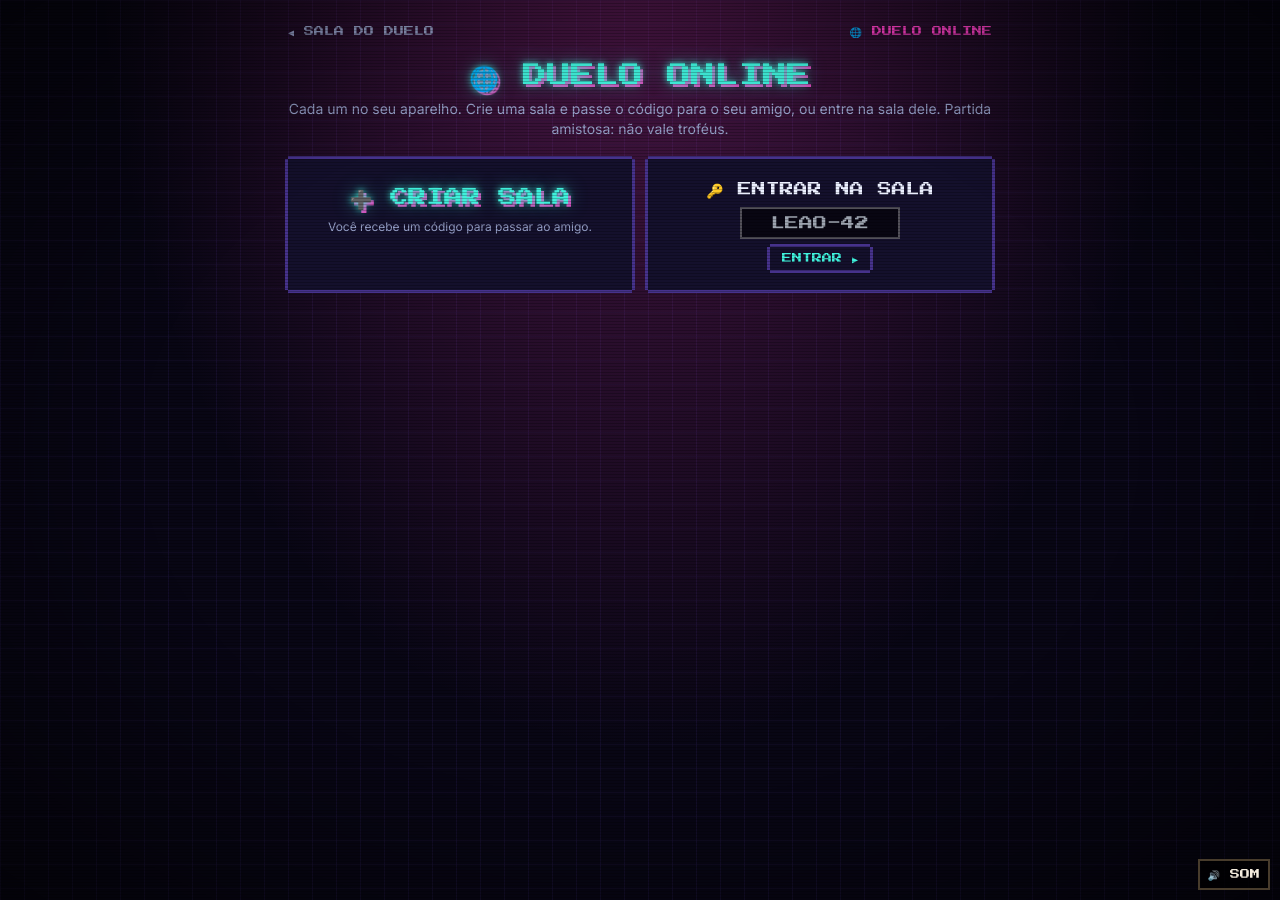
Test: duelo jogável (protótipo) › Duelo online: a sala abre com CRIAR SALA e ENTRAR NA SALA, e avisa código errado
Expected: the heading "🌐 DUELO ONLINE" is shown, left=469, top=63, right=811, bottom=87
Expected: the button "➕ CRIAR SALA Você recebe um código para passar ao amigo." is shown, left=288, top=159, right=632, bottom=290
Type "42" into the field labelled "🔑 ENTRAR NA SALA".
click(820, 223); type("42")  # box left=740, top=207, right=900, bottom=239
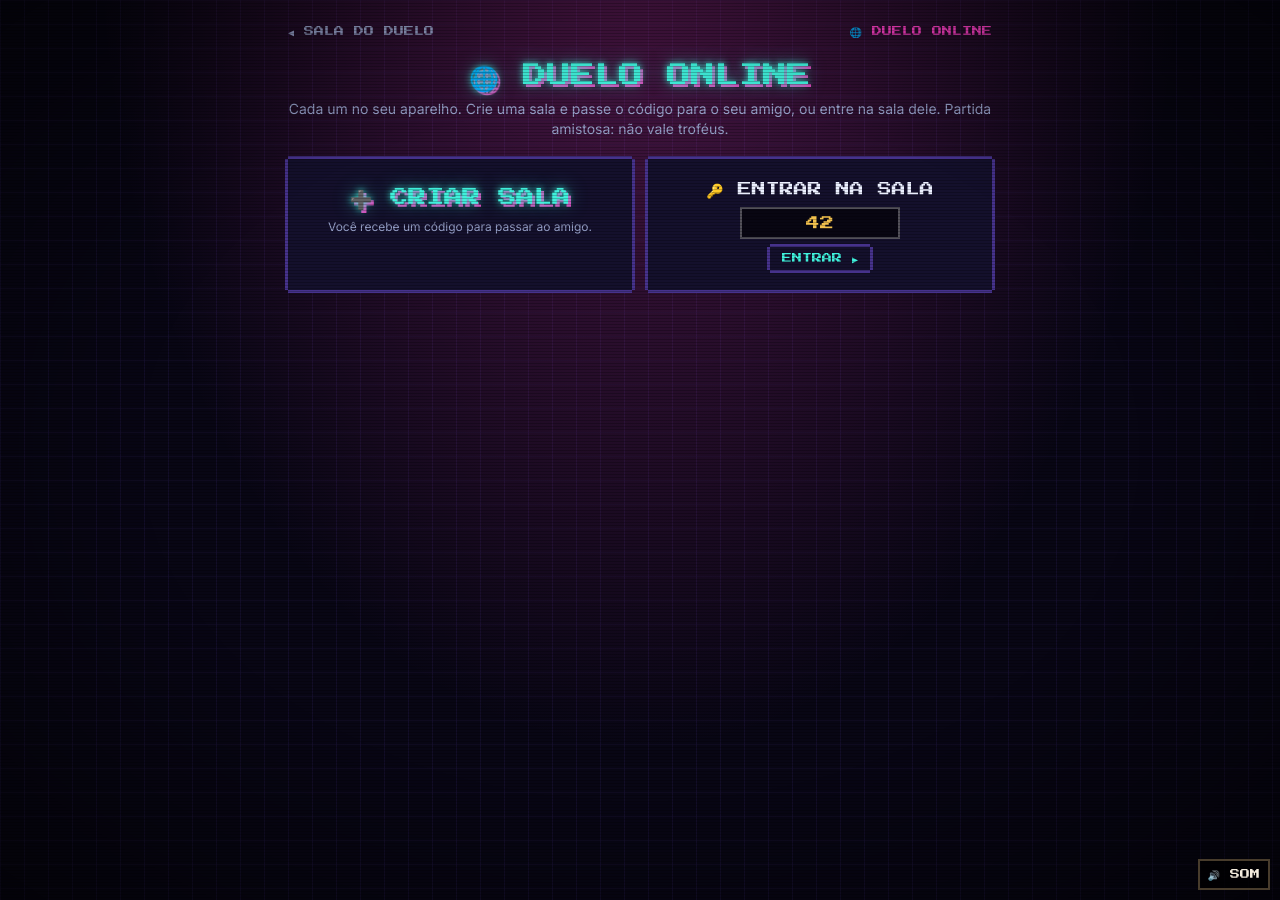
Click the button "ENTRAR ▶".
click(820, 258)  # box left=770, top=247, right=870, bottom=270
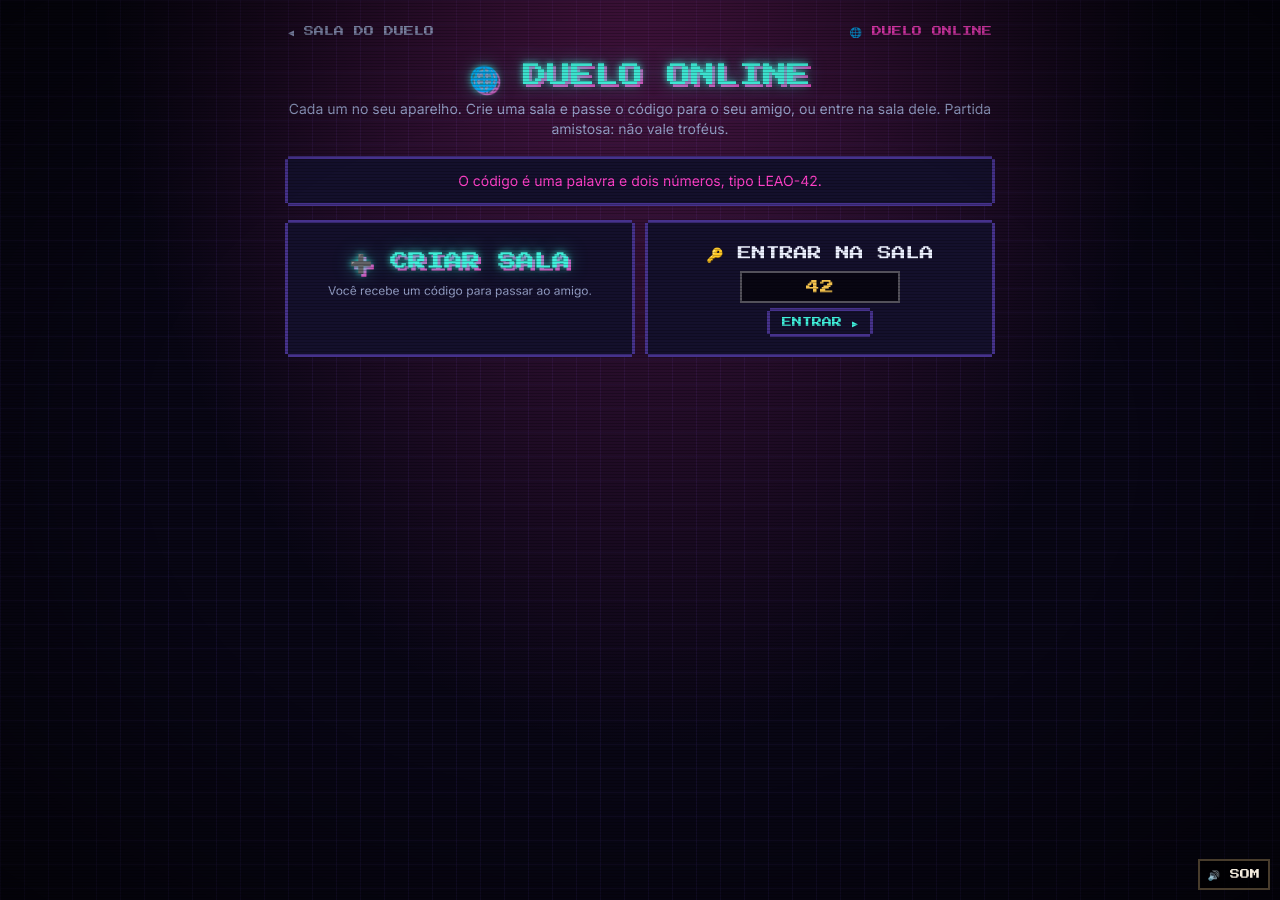
Expected: the message shows "LEAO-42", left=458, top=172, right=822, bottom=189
